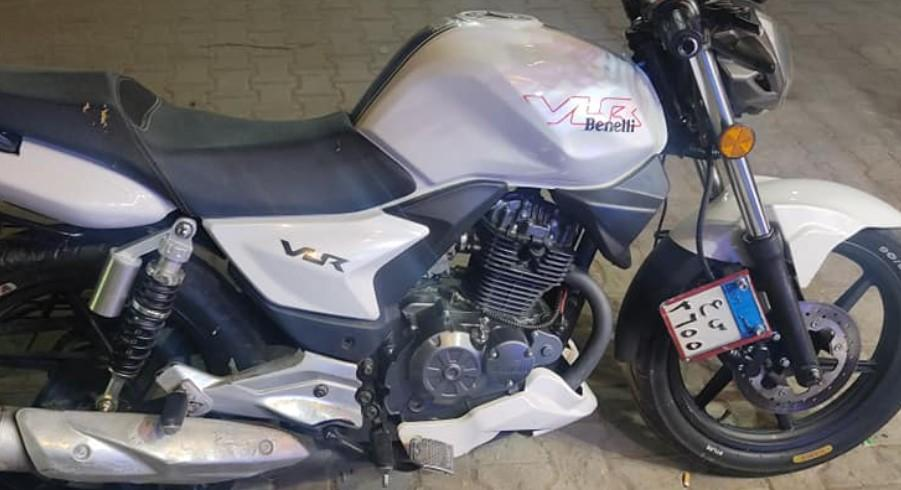License Plate: (658, 273, 765, 359)
